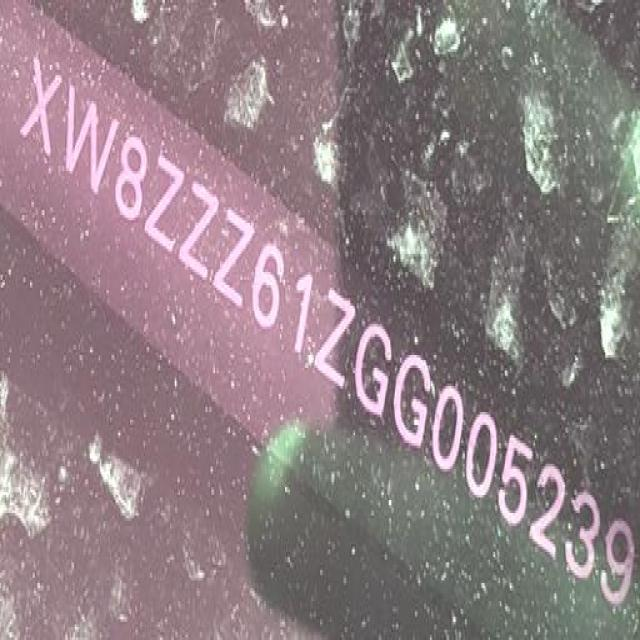0: (454, 397, 509, 514), (420, 378, 474, 487)
1: (283, 259, 328, 366)
2: (522, 454, 578, 569)
3: (557, 478, 612, 598)
5: (497, 430, 534, 530)
6: (244, 232, 300, 342)
8: (108, 126, 160, 234)
9: (598, 516, 635, 608)
G: (381, 343, 442, 459), (344, 312, 401, 430)
W: (64, 83, 120, 195)
X: (18, 55, 62, 159)
Z: (306, 283, 365, 402), (205, 195, 263, 312), (138, 150, 195, 262), (176, 177, 230, 292)
